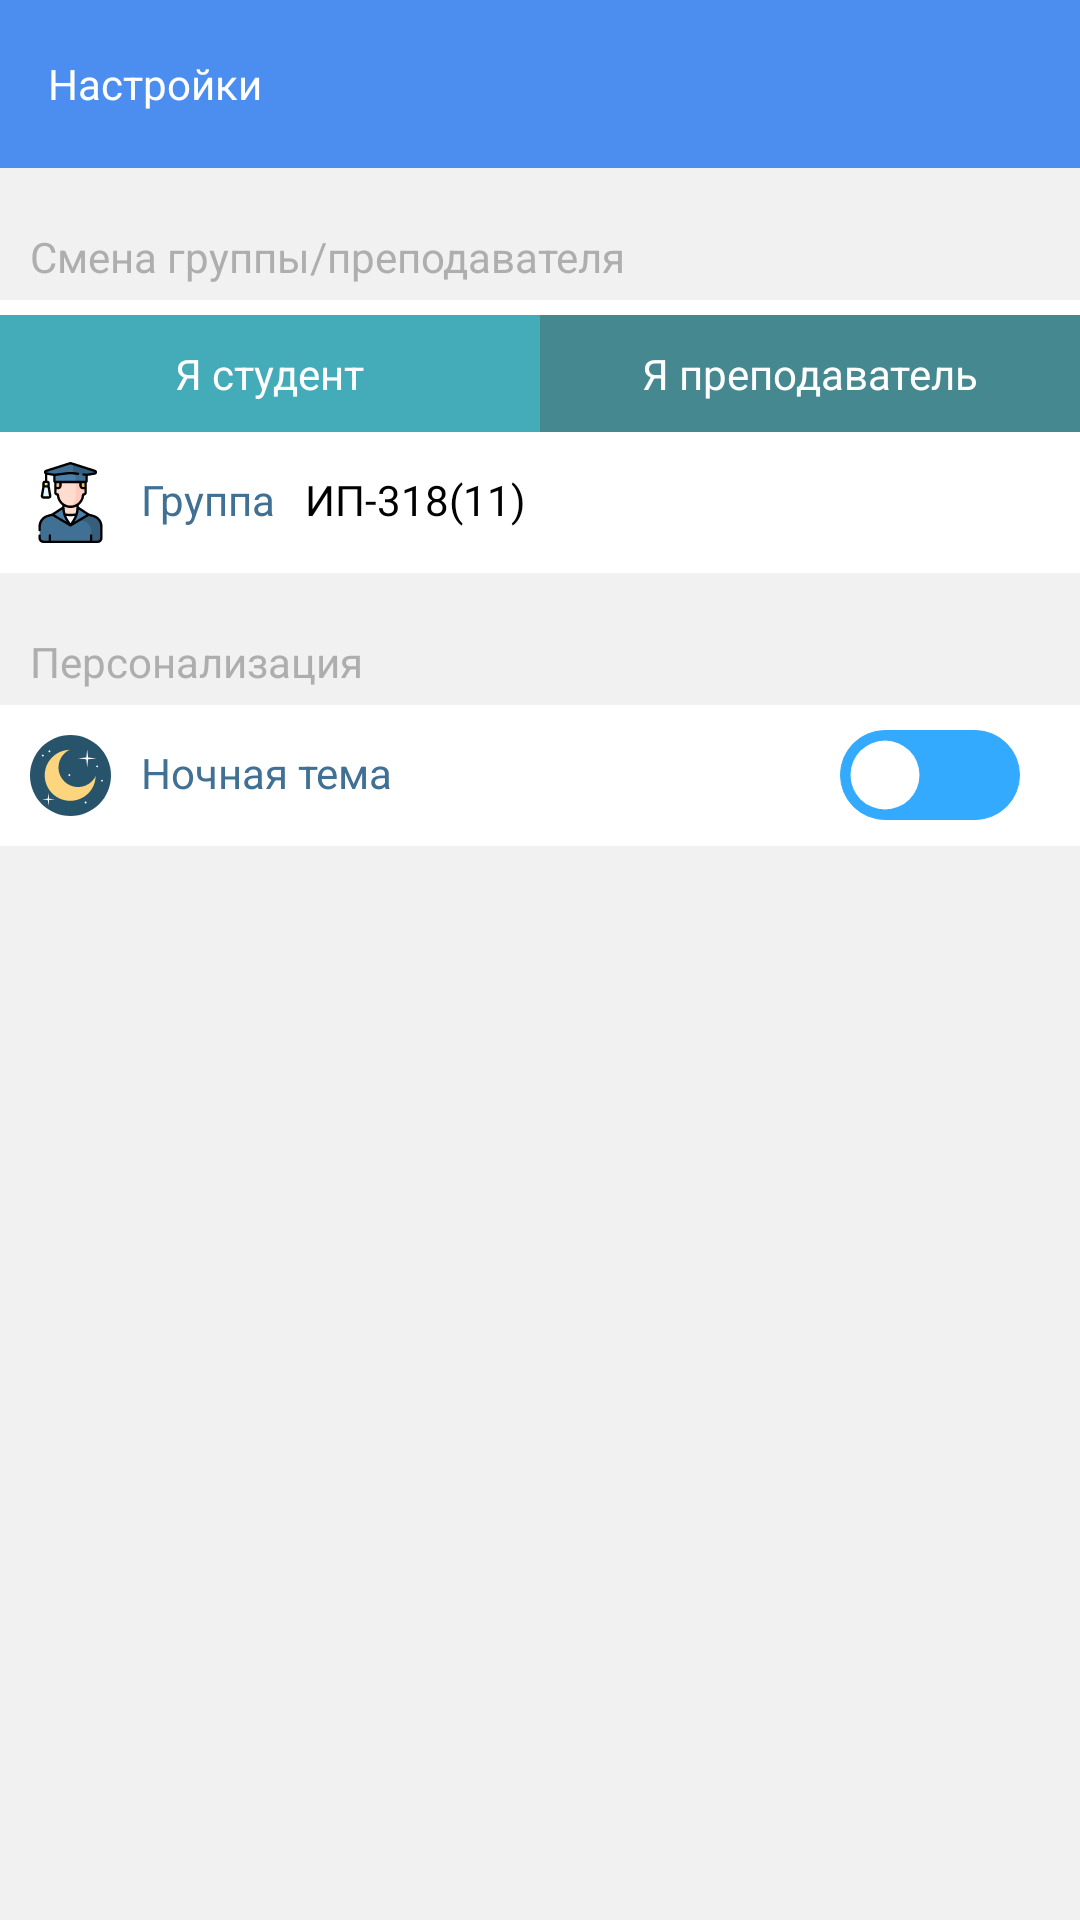

Locate icon controls on the screen. Image size 1080px x 1920px, boxes as (x1, y1, x2, y2).
half moon: (30, 735, 111, 816)
